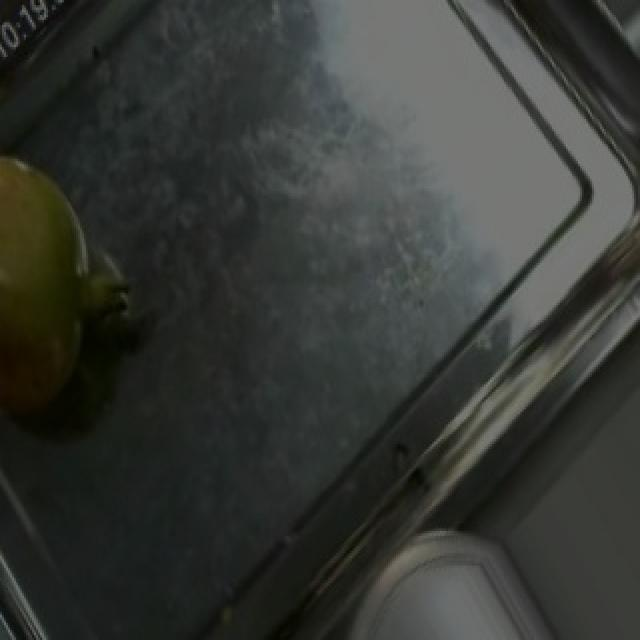fruit: (352, 528, 584, 640), (0, 129, 106, 342)
